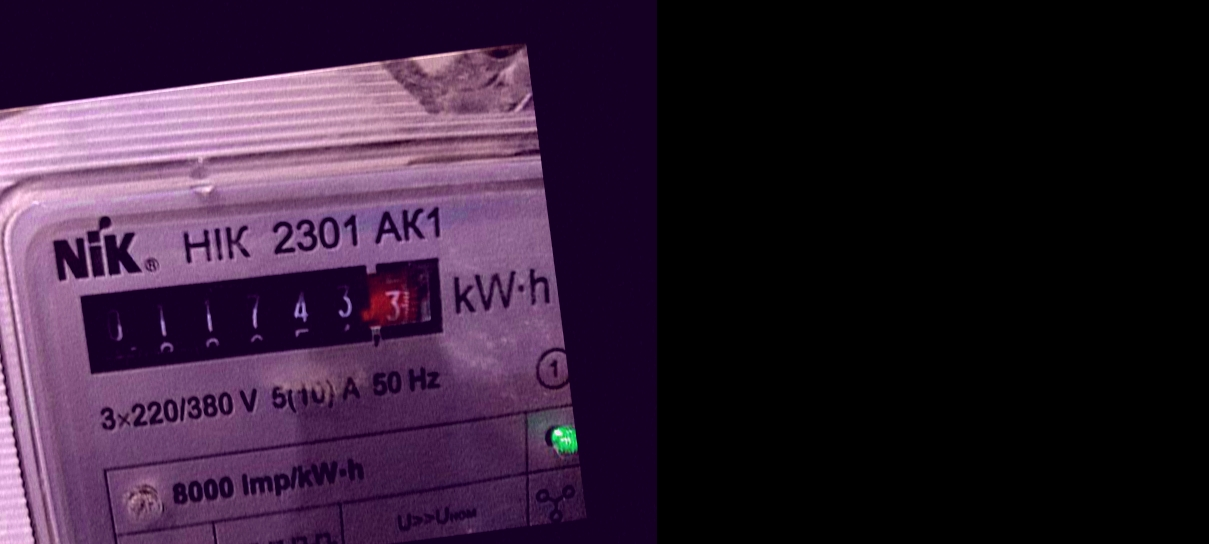0: (103, 305, 129, 346), (152, 298, 175, 341)
1: (199, 293, 220, 336)
3: (333, 279, 358, 324), (382, 286, 407, 326)
4: (288, 284, 313, 327)
7: (241, 287, 270, 334)
screen: (60, 237, 459, 392)
